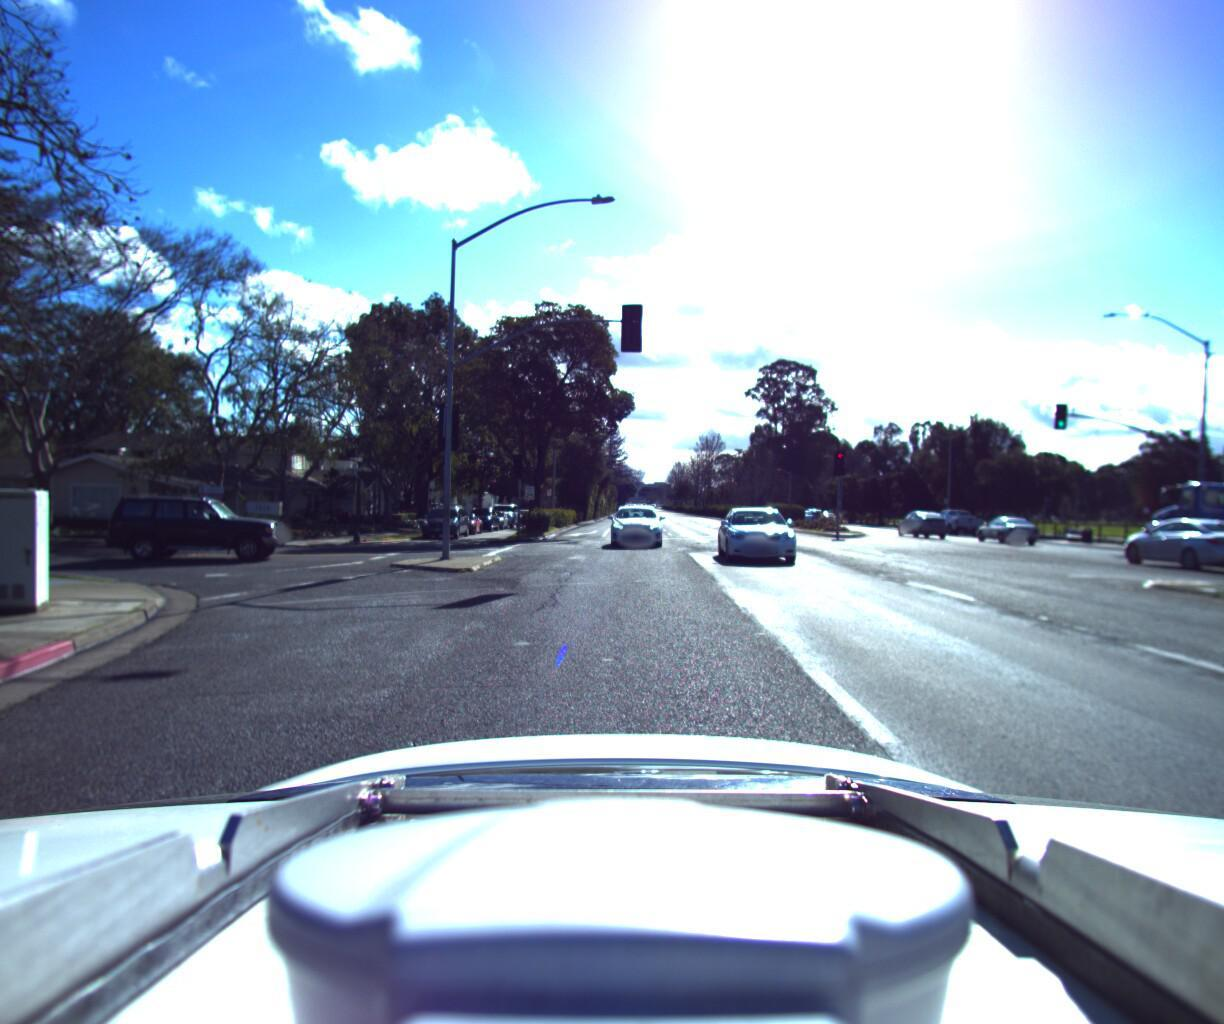car: (93, 488, 295, 561), (1084, 503, 1224, 564), (717, 498, 814, 568), (960, 500, 1034, 537), (607, 499, 664, 544), (416, 497, 470, 534), (917, 497, 978, 526), (884, 500, 938, 529), (442, 505, 483, 530), (485, 496, 521, 522)
truck: (1098, 406, 1224, 592)
